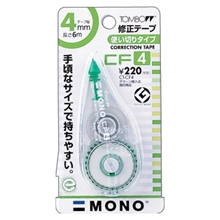Correction_fluid: (76, 49, 144, 197)
